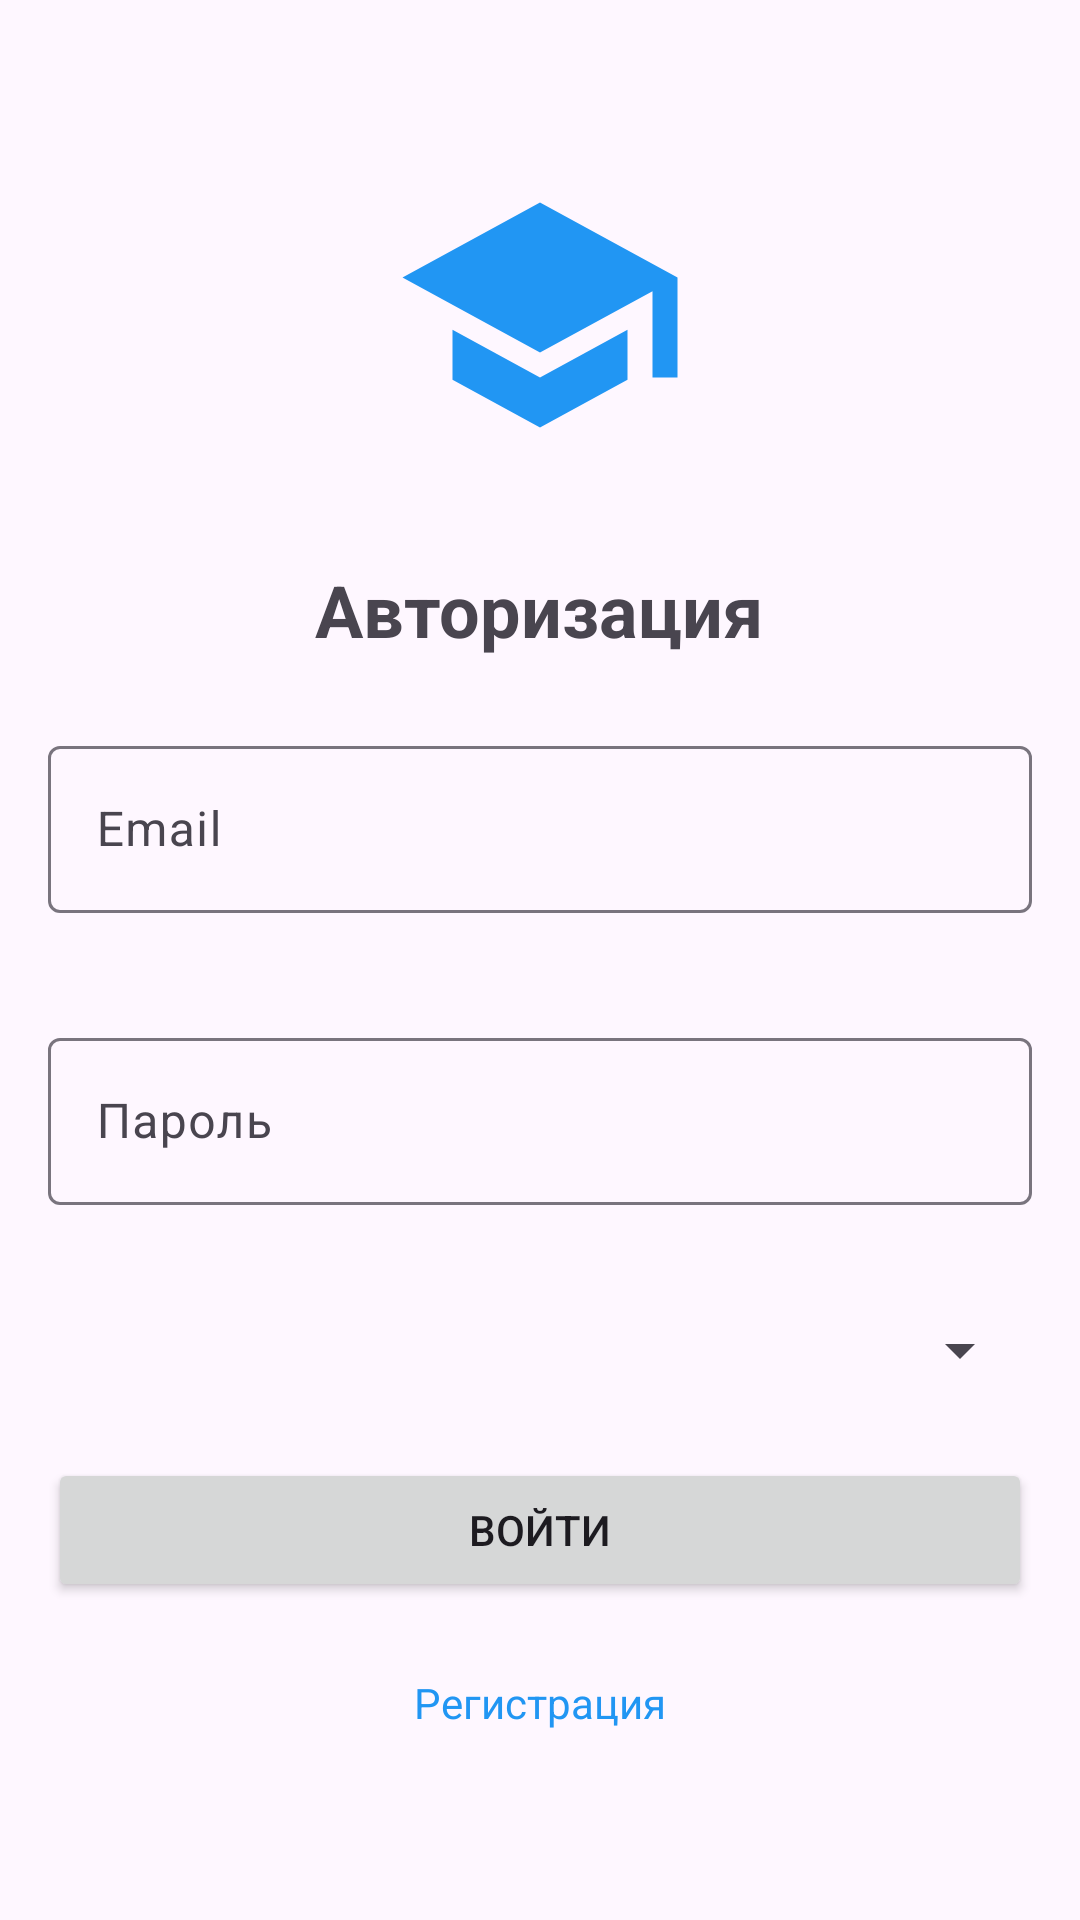

Named icons in this screenshot (1080w x 1920h) and their bounding boxes, [x1=x1, y1=y1, x2=x2, y2=y2]:
college: [x1=402, y1=202, x2=678, y2=428]
